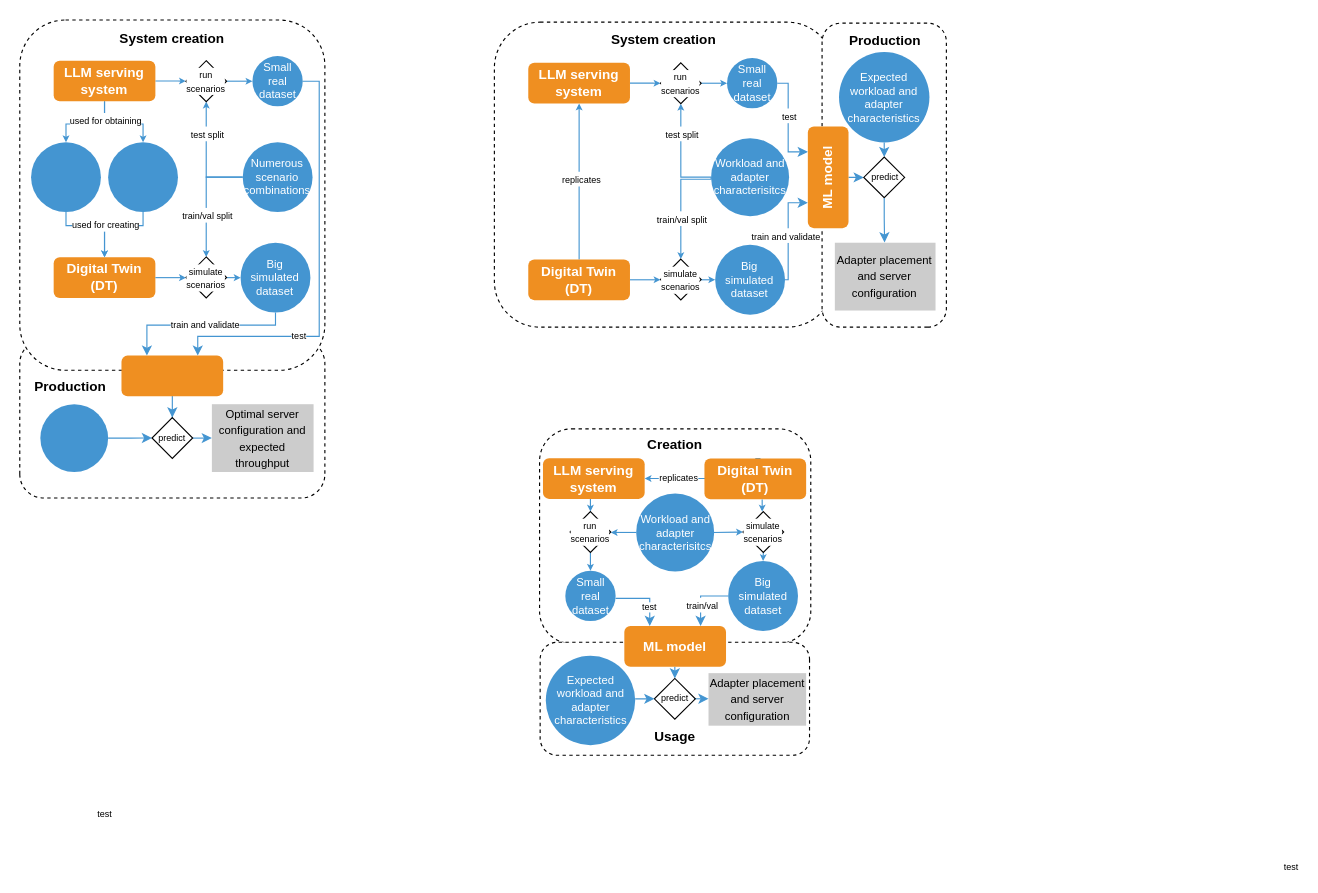
Image size: 1318x893. Some labels were removed from this diagram. The shapes that lost their labels are listed below. From the top down, each one's box as (x1, y1, x2, y2) in pixels, then its label:
(31, 142, 100, 212): Insights from performance analysis
(108, 142, 177, 212): Benchmark data
(121, 355, 223, 396): Explainable model
(40, 404, 108, 471): Expected future scenario
